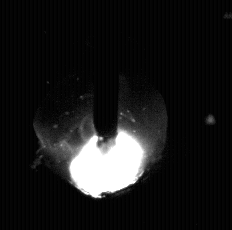arame: (93, 0, 120, 153)
poca: (34, 0, 168, 230)
